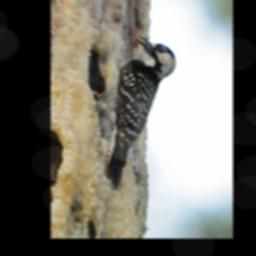Woodpecker: (94, 35, 177, 190)
